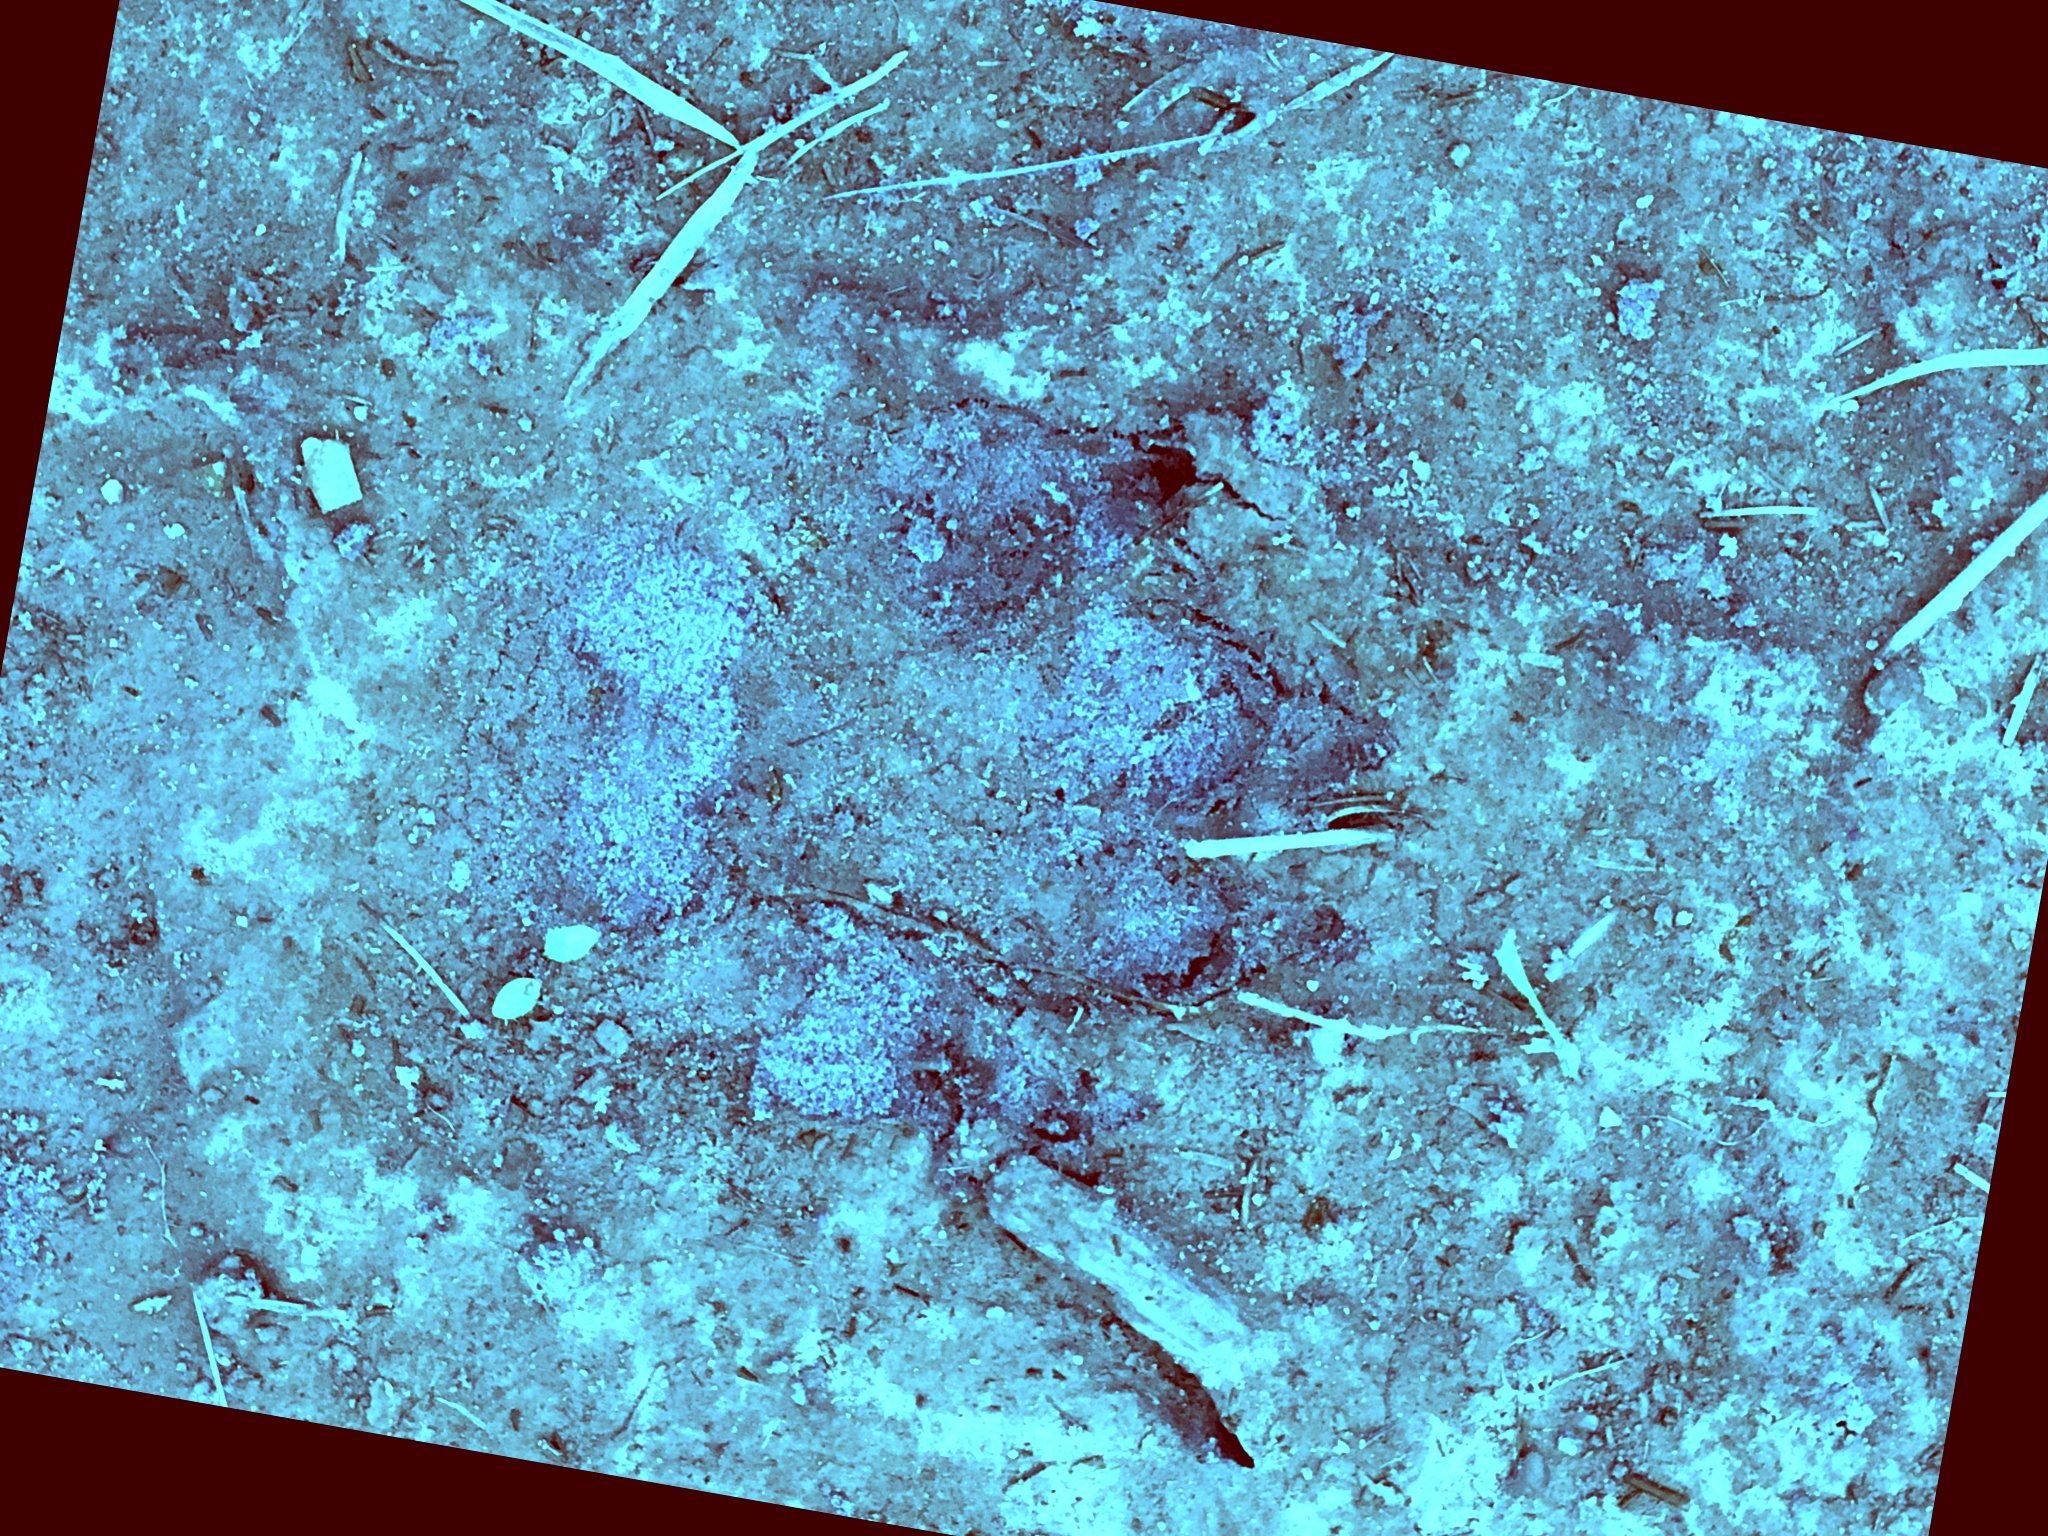ecureuil: (695, 545, 1582, 1204), (1625, 644, 2048, 1255)
